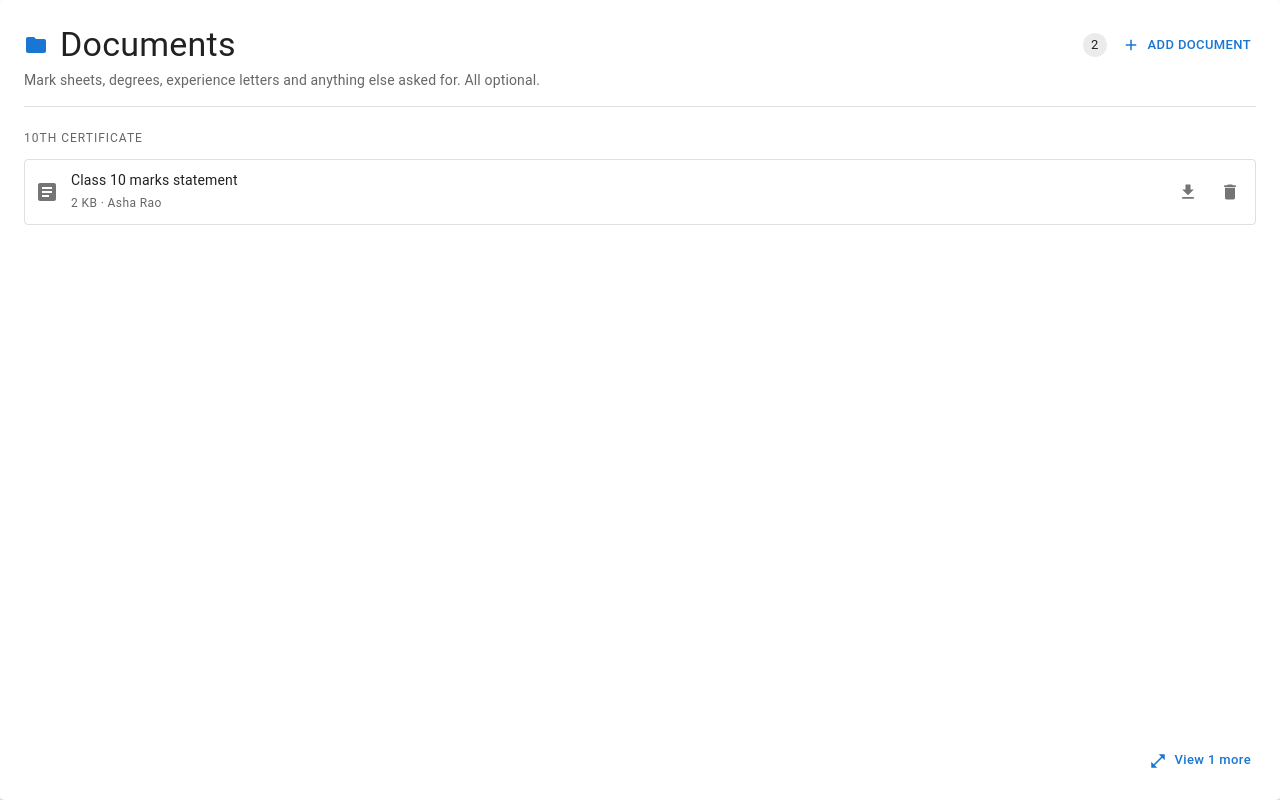
Test: DocumentsCard › groups what is attached under its category
This screenshot has width=1280, height=800.
Check: the text "Class 10 marks statement" is shown, box [71,172,238,188]
Check: the text "B.Tech certificate" is not shown
Click the button with aria-label "View all documents": {"x": 1201, "y": 761} [1146,745,1256,776]
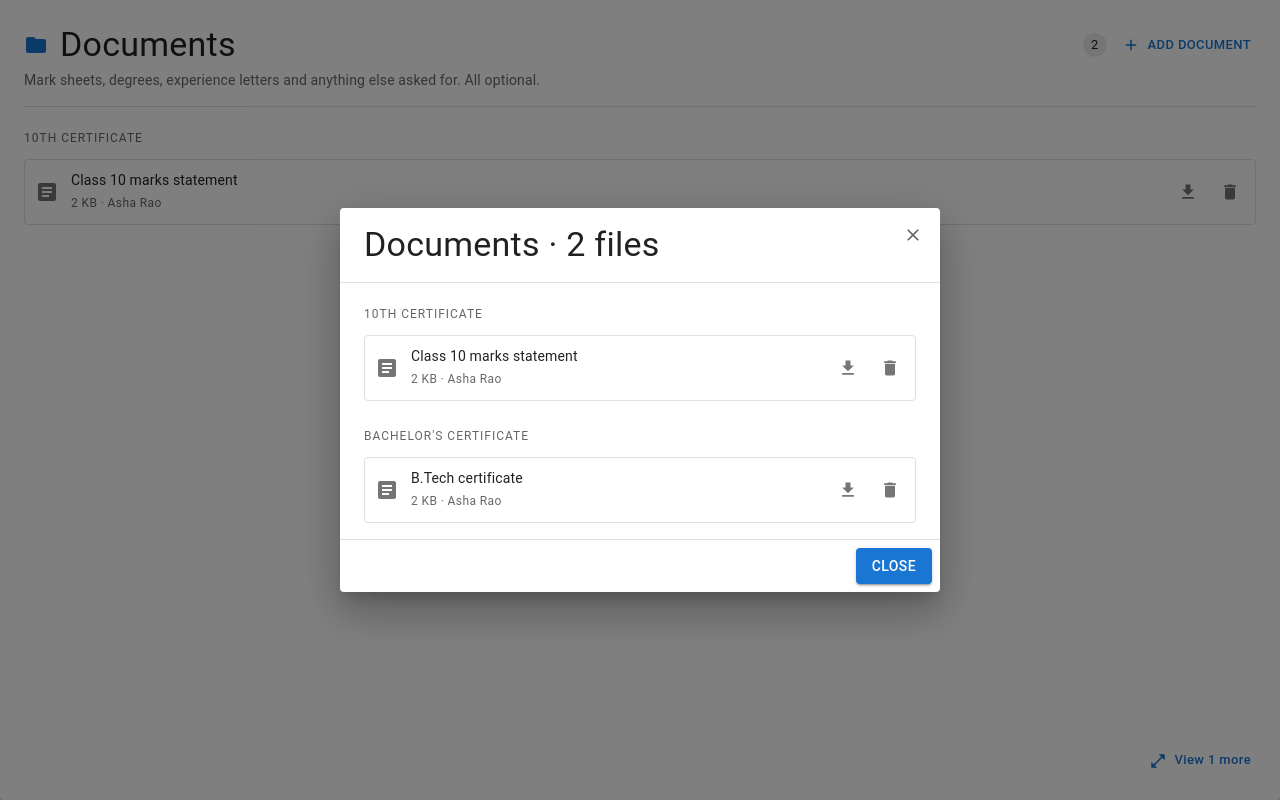
Check: the text "Class 10 marks statement" is shown, box [411,348,578,364]
Check: the text "B.Tech certificate" is shown, box [411,470,523,486]
Check: the text "10th certificate" is shown, box [364,307,483,321]
